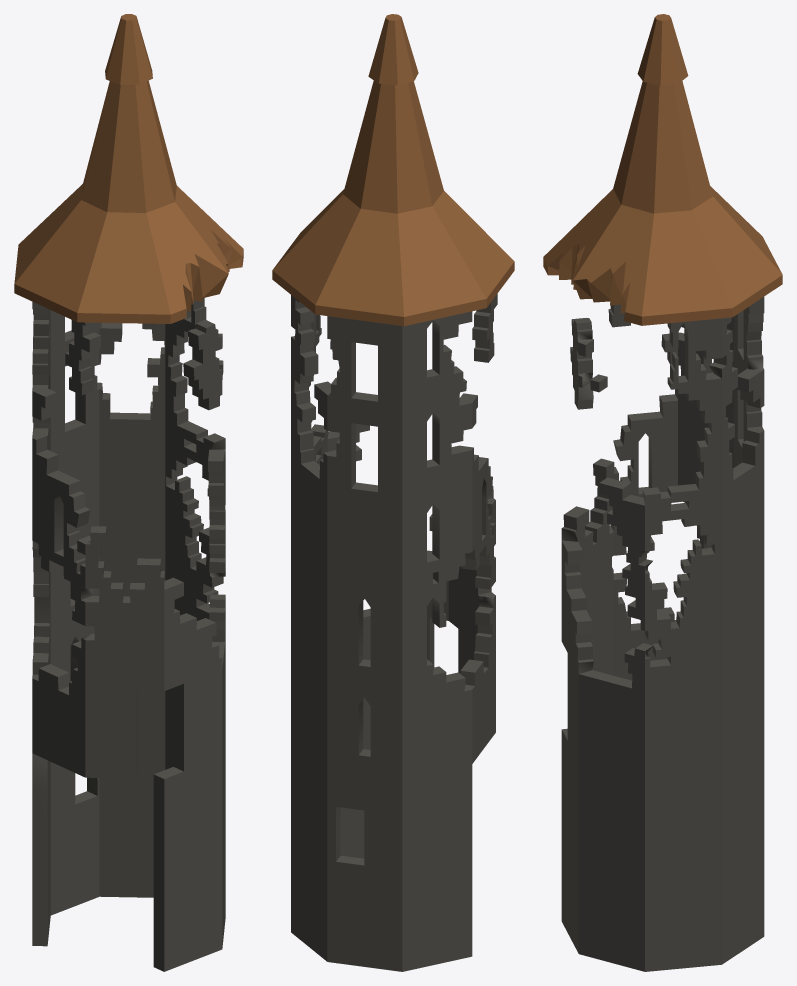
The picture shows the model from 3 angles, left to right: view 1: azimuth 30°, elevation 25°; view 2: azimuth 150°, elevation 25°; view 3: azimuth 270°, elevation 25°; orthographic projection.
Parts seen in each view (by area): view 1: Cylinder1321_wall_0, Cylinder1473_brown_0, Object132_brown_0, Object145_brown_0; view 2: Cylinder1321_wall_0, Cylinder1473_brown_0, Object132_brown_0, Object145_brown_0; view 3: Cylinder1321_wall_0, Cylinder1473_brown_0, Object132_brown_0, Object145_brown_0.
Part boxes in pixels (x1,y1,x2,y2): Cylinder1321_wall_0: (32, 298, 225, 971); Cylinder1473_brown_0: (14, 184, 243, 323); Object132_brown_0: (81, 80, 176, 212); Object145_brown_0: (105, 14, 152, 84); Cylinder1321_wall_0: (291, 294, 497, 971); Cylinder1473_brown_0: (272, 189, 514, 326); Object132_brown_0: (343, 80, 443, 213); Object145_brown_0: (368, 14, 418, 85); Cylinder1321_wall_0: (561, 297, 764, 971); Cylinder1473_brown_0: (543, 186, 782, 325); Object132_brown_0: (613, 81, 712, 213); Object145_brown_0: (637, 14, 688, 85).
Size of the model in its own units: 932 by 3914 by 932.
